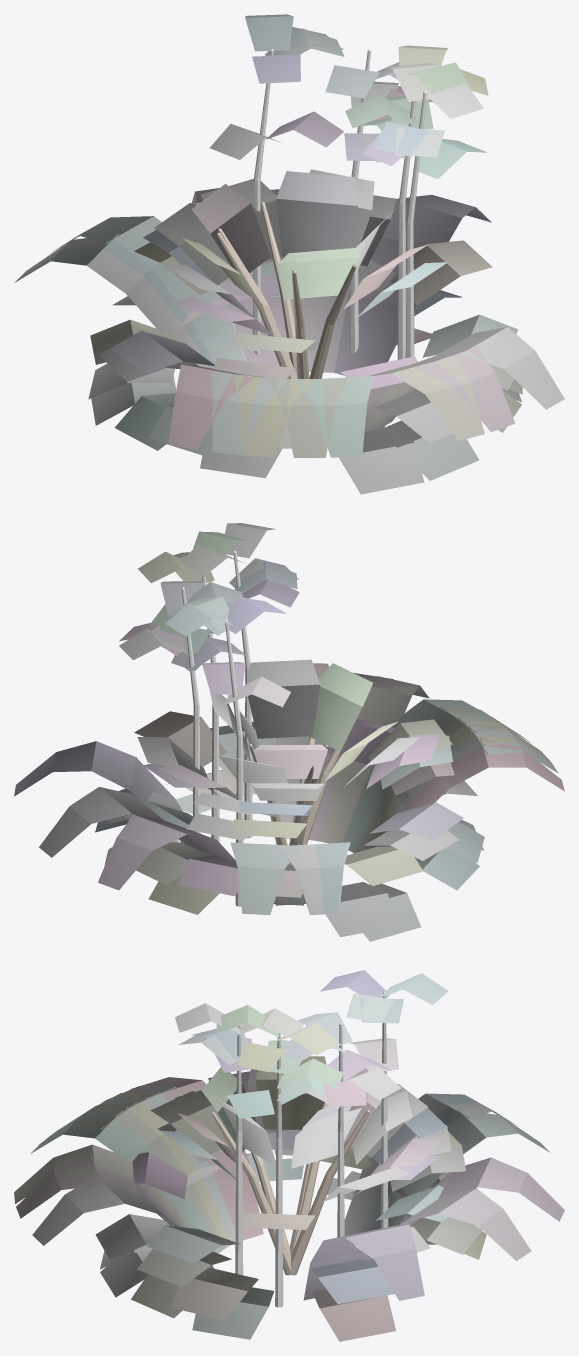
Rendered from thicket_2.glb.
3 renders of one model, top to bottom at view 1: azimuth 30°, elevation 25°; view 2: azimuth 150°, elevation 25°; view 3: azimuth 270°, elevation 25°, orthographic. The views are drawn at different scales.
Parts seen in each view (by area): view 1: thicket_2; view 2: thicket_2; view 3: thicket_2.
Part boxes in pixels (x1,y1,x2,y2): thicket_2: (14,14,564,494); thicket_2: (14,523,564,941); thicket_2: (14,970,564,1341).
Bounding box in the file's own units: 1.56 × 1.09 × 1.77.
